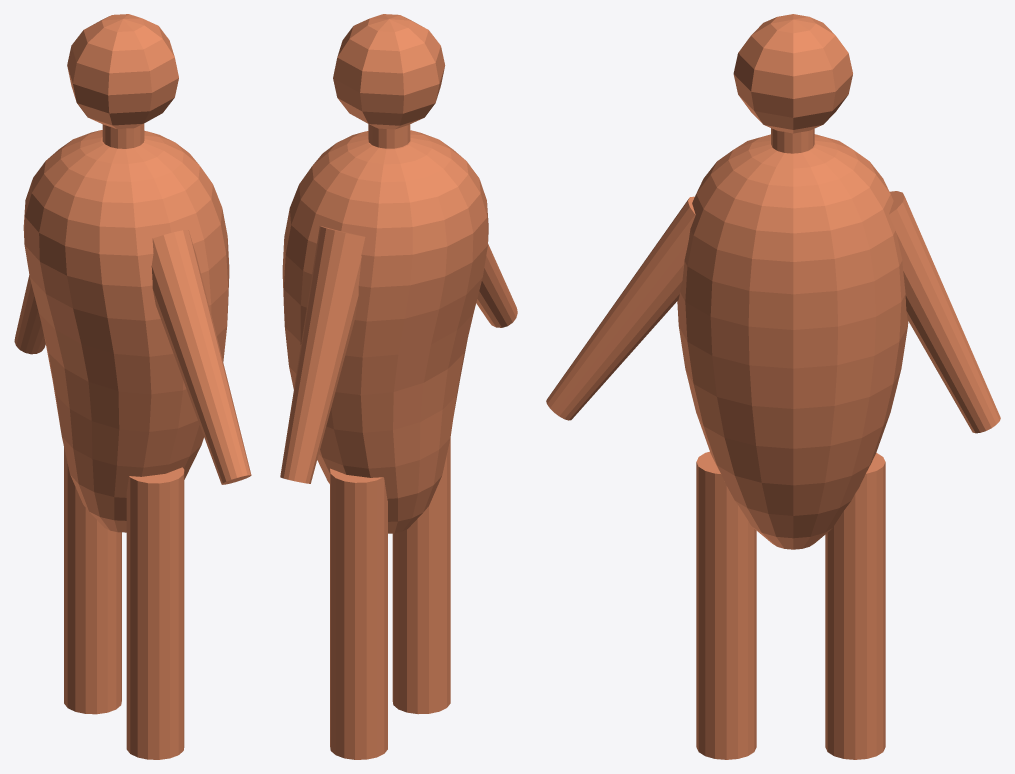
The model's file is Person_placeholder.fbx.
3 views of the same model, side by side, from view 1: azimuth 30°, elevation 25°; view 2: azimuth 150°, elevation 25°; view 3: azimuth 270°, elevation 25° (orthographic). The views are drawn at different scales.
Parts seen in each view (by area): view 1: Sphere; view 2: Sphere; view 3: Sphere.
Part boxes in pixels (x1,y1,x2,y2): Sphere: [14, 14, 251, 759]; Sphere: [280, 14, 517, 759]; Sphere: [546, 14, 1000, 759].
Size of the model in its own units: 179 by 687 by 389.
